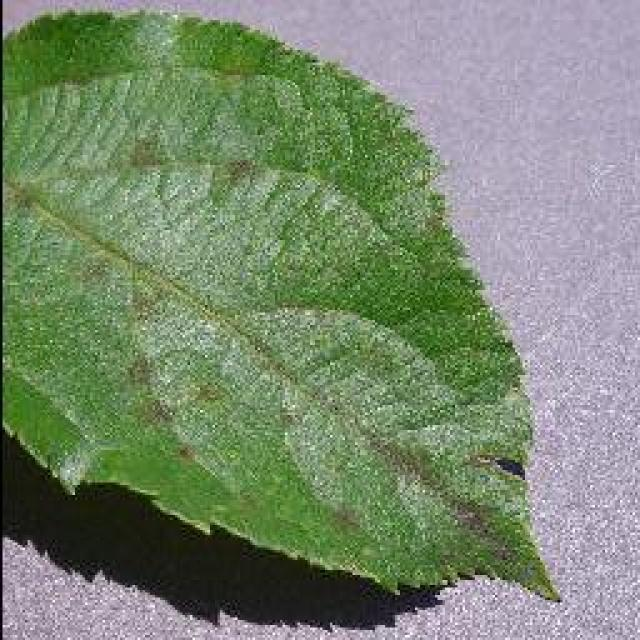apple scab disease: (0, 5, 562, 605)
